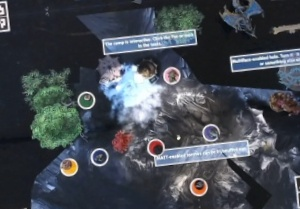blue: (87, 143, 110, 169)
green: (73, 88, 98, 111)
orange: (185, 175, 209, 198)
pink: (159, 64, 181, 86)
red: (143, 135, 167, 156)
violet: (199, 122, 221, 145)
yellow: (57, 155, 81, 178)
